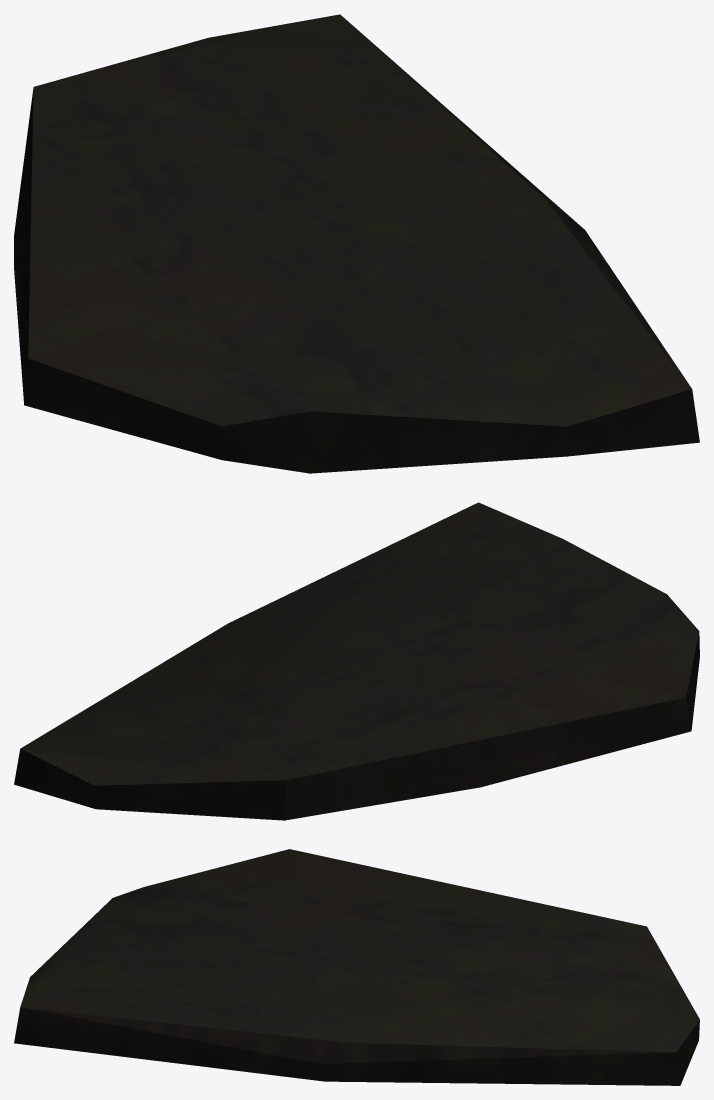
File: shards_glass_single_01.dae
3 views of the same model, one above another, from view 1: azimuth 30°, elevation 25°; view 2: azimuth 150°, elevation 25°; view 3: azimuth 270°, elevation 25° (orthographic). The views are drawn at different scales.
Parts seen in each view (by area): view 1: 01; view 2: 01; view 3: 01.
Boxes of the visible parts, box(x1,y1,x2,y2) form: 01: box(14, 14, 699, 473); 01: box(14, 502, 699, 820); 01: box(14, 849, 699, 1085).
Bounding box in the file's own units: 0.1216 × 0.0138 × 0.174.
